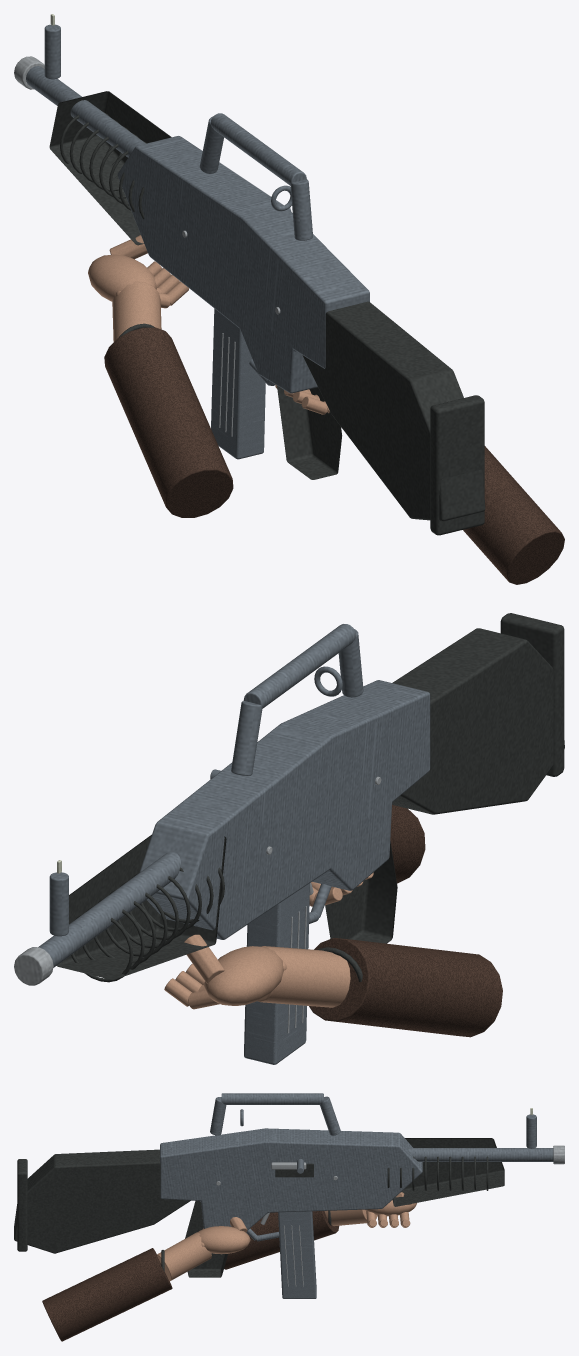
The model's file is car15.glb.
3 renders of one model, top to bottom at view 1: azimuth 30°, elevation 25°; view 2: azimuth 150°, elevation 25°; view 3: azimuth 270°, elevation 25°, orthographic. The views are drawn at different scales.
Visible parts, largest first — view 1: car15__BODY, car15__HAND_L, car15__HAND_R, car15__MAGAZINE; view 2: car15__BODY, car15__HAND_L, car15__MAGAZINE, car15__HAND_R; view 3: car15__BODY, car15__HAND_R, car15__HAND_L, car15__MAGAZINE, car15__BOLT.
Boxes of the visible parts, left/top/right/bottom form: car15__BODY: left=14, top=14, right=485, bottom=535; car15__HAND_L: left=88, top=235, right=233, bottom=517; car15__HAND_R: left=275, top=384, right=564, bottom=584; car15__MAGAZINE: left=211, top=308, right=265, bottom=459; car15__BODY: left=14, top=613, right=564, bottom=985; car15__HAND_L: left=164, top=934, right=502, bottom=1037; car15__MAGAZINE: left=244, top=883, right=309, bottom=1064; car15__HAND_R: left=309, top=805, right=425, bottom=906; car15__BODY: left=14, top=1093, right=564, bottom=1277; car15__HAND_R: left=42, top=1217, right=250, bottom=1341; car15__HAND_L: left=224, top=1192, right=416, bottom=1269; car15__MAGAZINE: left=278, top=1211, right=316, bottom=1298; car15__BOLT: left=271, top=1159, right=306, bottom=1173.
Size of the model in its own units: 0.3294 by 0.4051 by 0.9416.
Materials: 6 (6 with a texture image).
